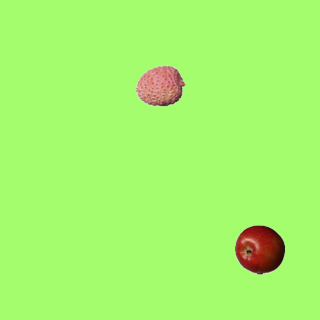Apple Braeburn: (234, 224, 284, 274)
Lychee: (135, 60, 185, 110)
